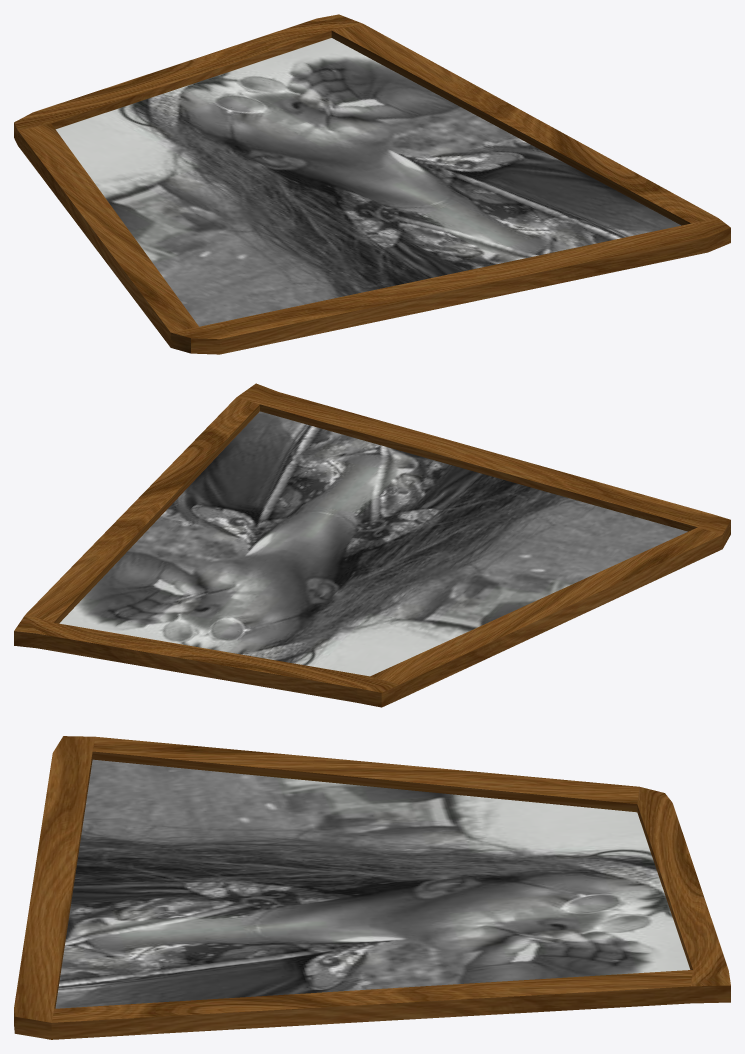
The model's file is Picture Frame 2.fbx.
The picture shows the model from 3 angles, top to bottom: view 1: azimuth 30°, elevation 25°; view 2: azimuth 150°, elevation 25°; view 3: azimuth 270°, elevation 25°; orthographic projection. The views are drawn at different scales.
Parts seen in each view (by area): view 1: pCube2; view 2: pCube2; view 3: pCube2.
Part boxes in pixels (box(x1,y1,x2,y2)): pCube2: box(14, 14, 730, 354); pCube2: box(14, 383, 730, 707); pCube2: box(14, 736, 730, 1039).
Size of the model in its own units: 5.31 by 0.2035 by 5.62.
2 materials, 2 textured.
